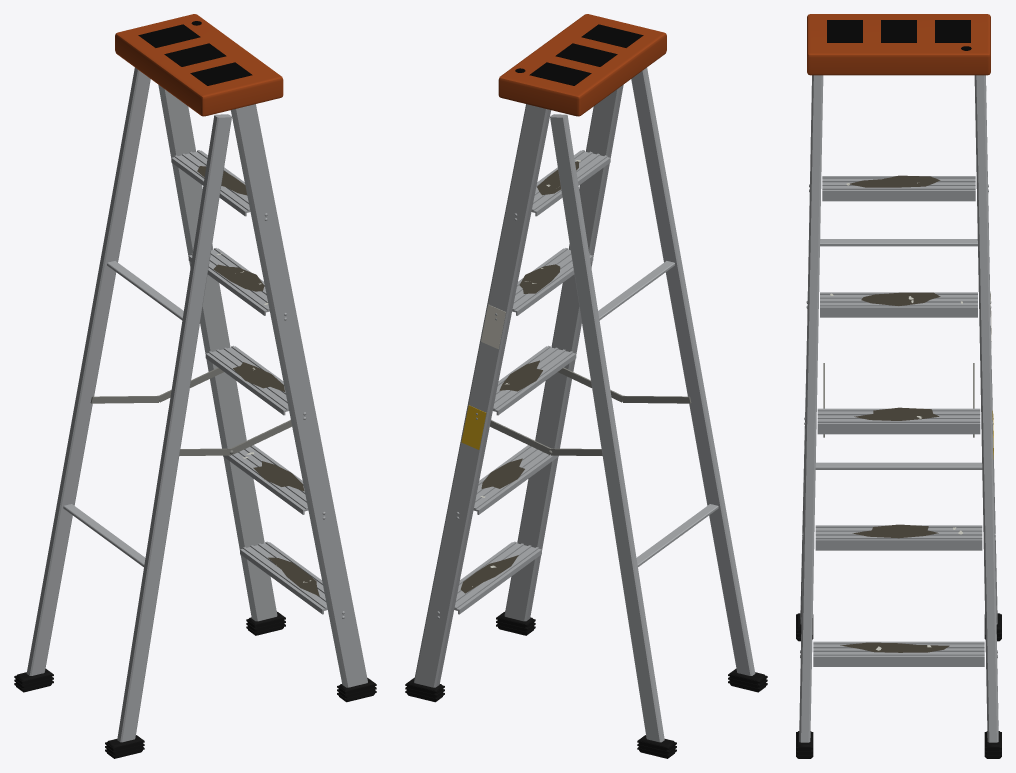
The model's file is stepladder.glb.
3 renders of one model, left to right at view 1: azimuth 30°, elevation 25°; view 2: azimuth 150°, elevation 25°; view 3: azimuth 270°, elevation 25°, orthographic. The views are drawn at different scales.
Visible parts, largest first — view 1: stehleiter0, stehleiter3, stehleiter2, stehleiter4, stehleiter1, stehleiter5; view 2: stehleiter0, stehleiter3, stehleiter2, stehleiter4, stehleiter1, stehleiter5, stehleiter6, stehleiter7; view 3: stehleiter0, stehleiter3, stehleiter2, stehleiter4, stehleiter1.
Part boxes in pixels (x1,y1,x2,y2): stehleiter0: (26, 67, 367, 742); stehleiter3: (115, 14, 283, 116); stehleiter2: (197, 166, 319, 596); stehleiter4: (138, 21, 252, 85); stehleiter1: (14, 611, 376, 758); stehleiter5: (90, 367, 291, 455); stehleiter0: (414, 67, 755, 742); stehleiter3: (498, 14, 666, 116); stehleiter2: (460, 161, 578, 593); stehleiter4: (515, 24, 643, 85); stehleiter1: (405, 611, 767, 758); stehleiter5: (490, 367, 691, 455); stehleiter6: (461, 405, 486, 449); stehleiter7: (481, 304, 505, 349); stehleiter0: (799, 75, 998, 742); stehleiter3: (807, 14, 990, 75); stehleiter2: (840, 175, 949, 652); stehleiter4: (827, 20, 971, 50); stehleiter1: (796, 613, 1001, 758).
Bounding box in the file's own units: 0.704 × 1.63 × 0.458.
